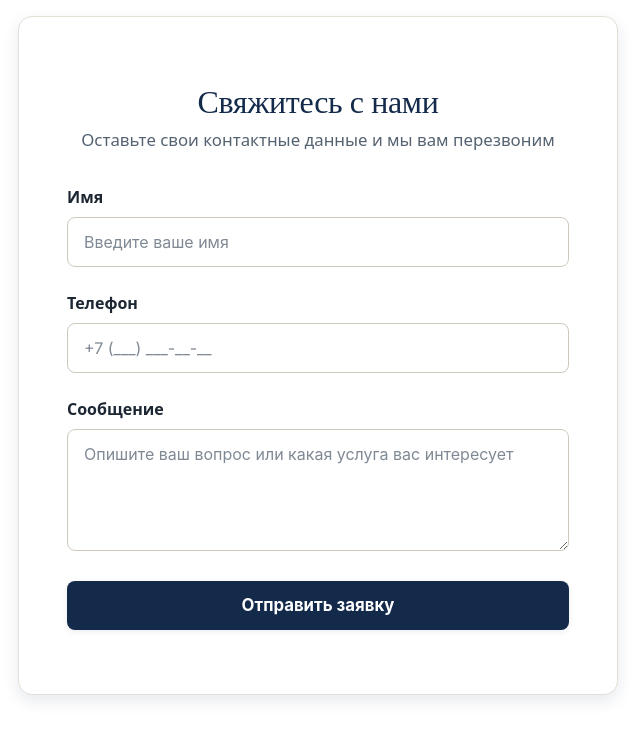
Test: пустая отправка показывает ошибку у каждого поля и не шлёт запрос
Click the button "Отправить заявку" at (318, 605), box [67,581,569,630]
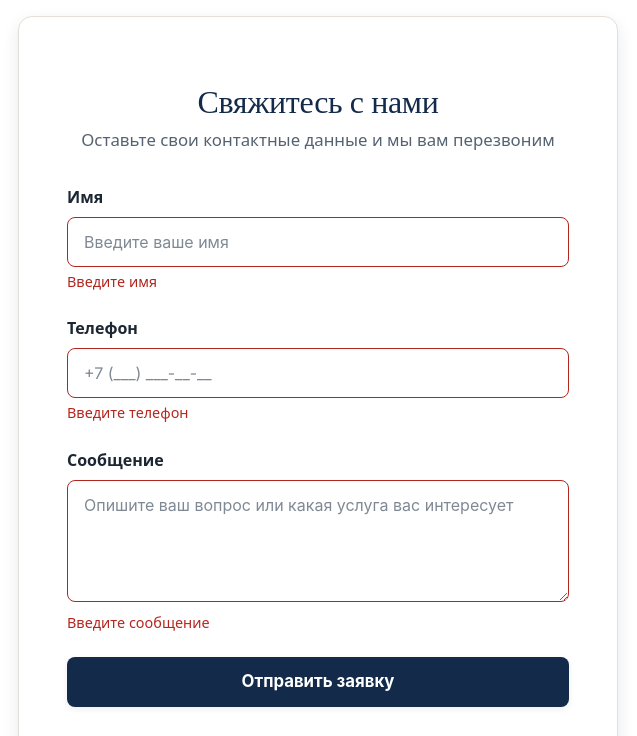
Check: the text "Введите имя" is shown, box [67,272,157,291]
Check: the text "Введите телефон" is shown, box [67,403,188,422]
Check: the text "Введите сообщение" is shown, box [67,613,210,632]
